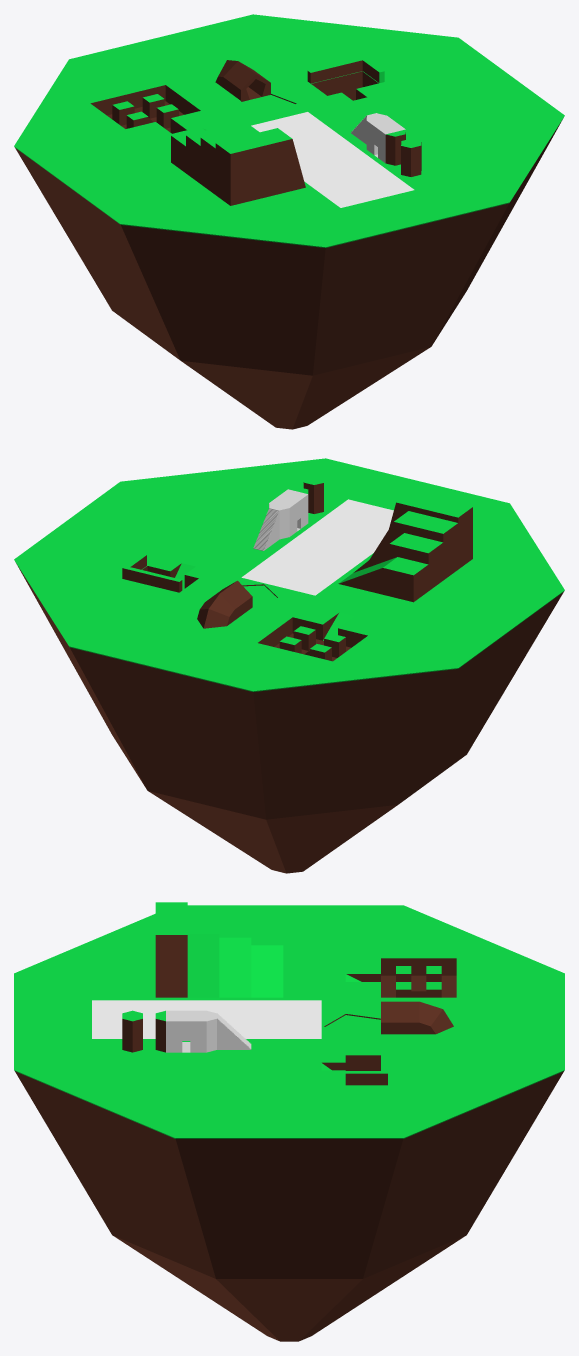
Rendered from Test Grounds v1.3.gltf.
3 views of the same model, one above another, from view 1: azimuth 30°, elevation 25°; view 2: azimuth 150°, elevation 25°; view 3: azimuth 270°, elevation 25° (orthographic). The views are drawn at different scales.
Parts seen in each view (by area): view 1: Level Mesh; view 2: Level Mesh; view 3: Level Mesh.
Boxes of the visible parts, x1,y1,x2,y2 form: Level Mesh: (14, 14, 564, 429); Level Mesh: (14, 458, 564, 873); Level Mesh: (14, 902, 564, 1341).
Size of the model in its own units: 432 by 317 by 432.
